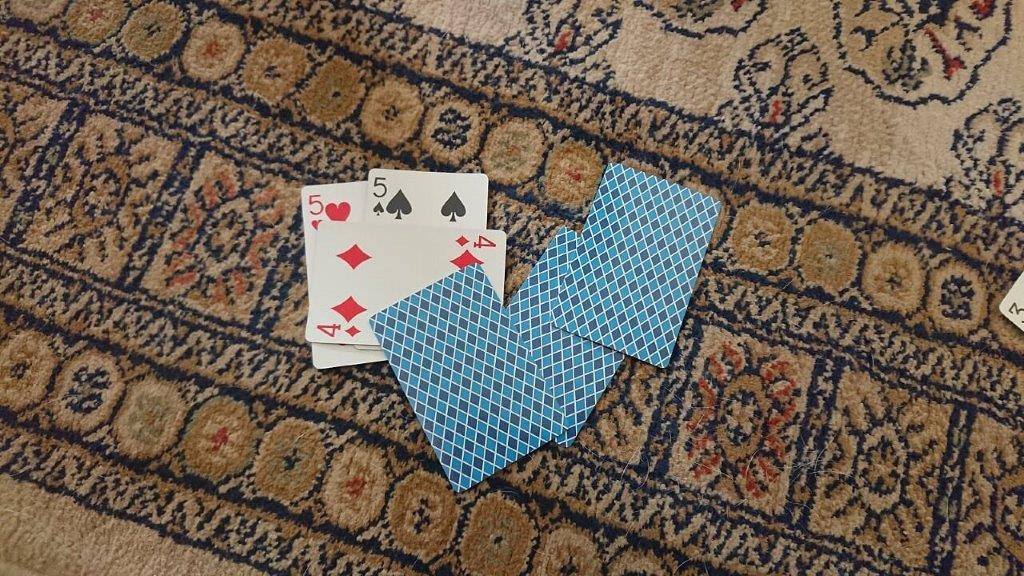5H: (304, 190, 326, 232)
5S: (369, 172, 388, 219)
BACK: (369, 264, 571, 494), (551, 161, 721, 370)
